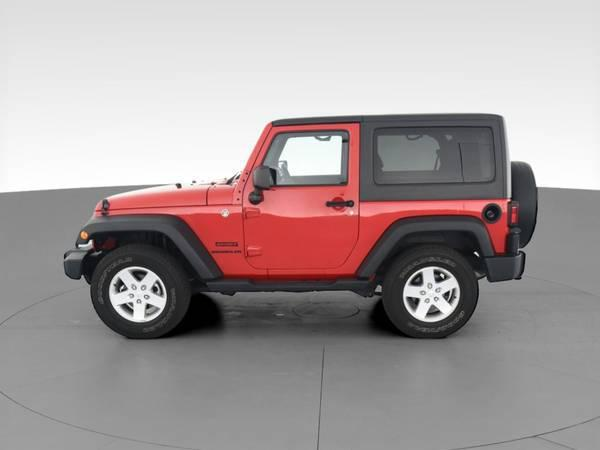Front_Bumper: (62, 245, 91, 279)
Front_Fender: (78, 200, 249, 276)
Front_Left_Door: (241, 184, 359, 276)
Front_Left_Window: (250, 125, 362, 186)
Hood: (97, 178, 237, 210)
Rear_Bumper: (485, 251, 528, 282)
Rear_Fender: (358, 121, 518, 280)
Roof: (237, 112, 506, 197)
Wheel: (89, 245, 193, 340), (382, 245, 480, 337), (512, 160, 538, 247)
